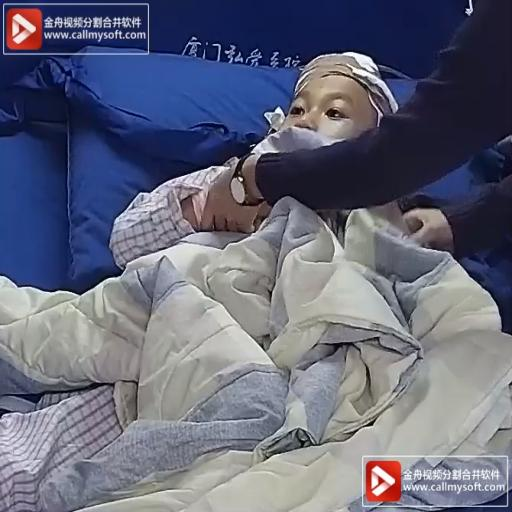Seizure: (272, 50, 389, 145)
